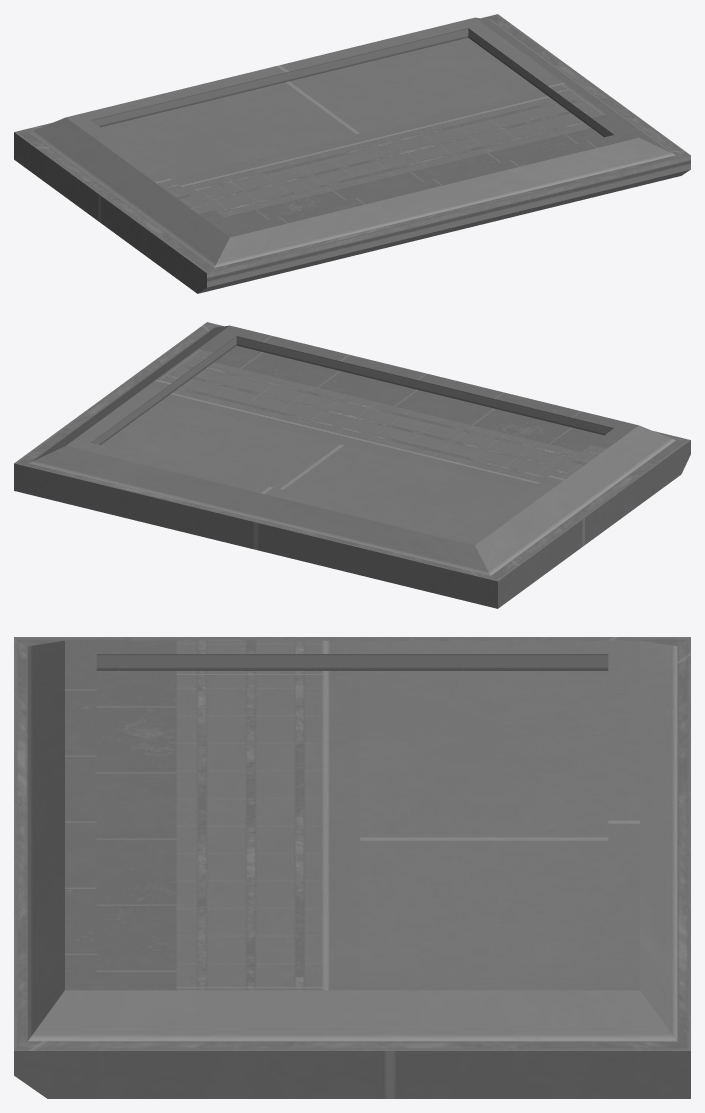
File: SM_roof_02.glb
The picture shows the model from 3 angles, top to bottom: view 1: azimuth 30°, elevation 25°; view 2: azimuth 150°, elevation 25°; view 3: azimuth 270°, elevation 25°; orthographic projection. The views are drawn at different scales.
Visible parts, largest first — view 1: SM_roof_02; view 2: SM_roof_02; view 3: SM_roof_02.
Part boxes in pixels (x1,y1,x2,y2): SM_roof_02: [14, 14, 690, 293]; SM_roof_02: [14, 322, 690, 608]; SM_roof_02: [14, 637, 690, 1098].
Size of the model in its own units: 27.28 by 2.35 by 18.86.
1 material, 1 textured.
